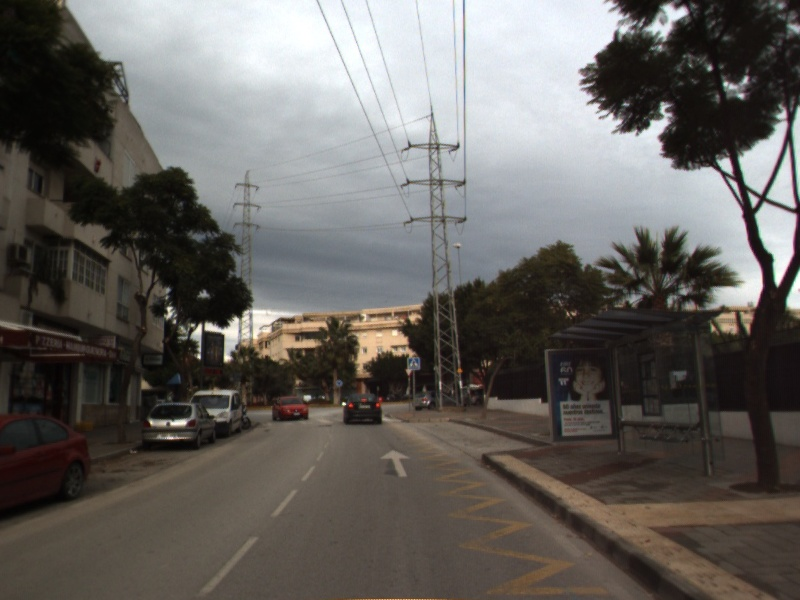STRAIGHT: (378, 447, 414, 479)
